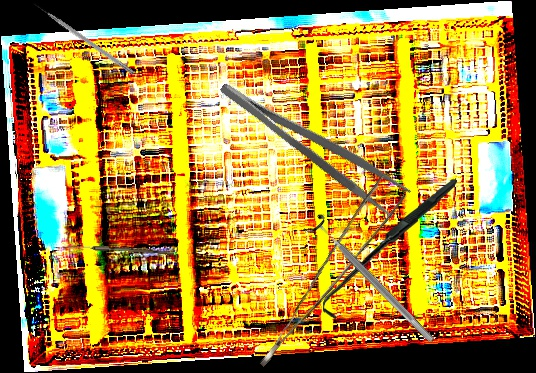Dressing Forceps: (215, 63, 413, 222)
Fixation Ring: (301, 210, 443, 351)
Hook Surgical: (316, 178, 464, 320), (31, 0, 136, 76)
Surgical Spoon: (63, 244, 175, 255)
Tissue Forceps: (231, 174, 415, 368)
